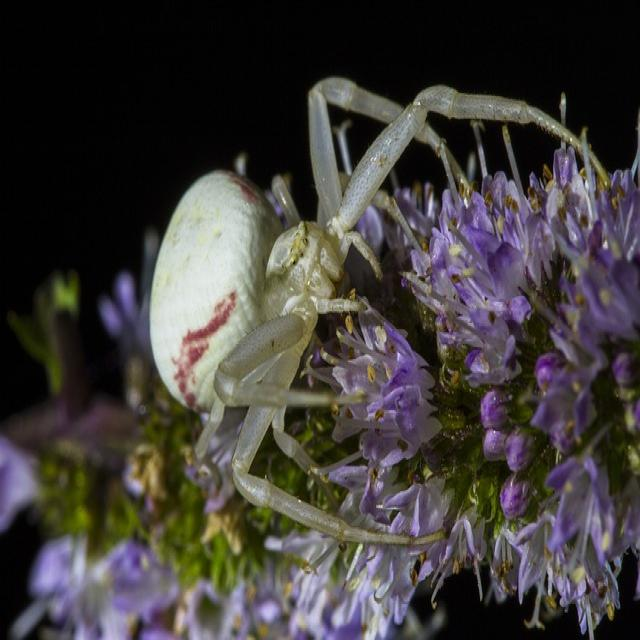spyder: (149, 78, 588, 551)
